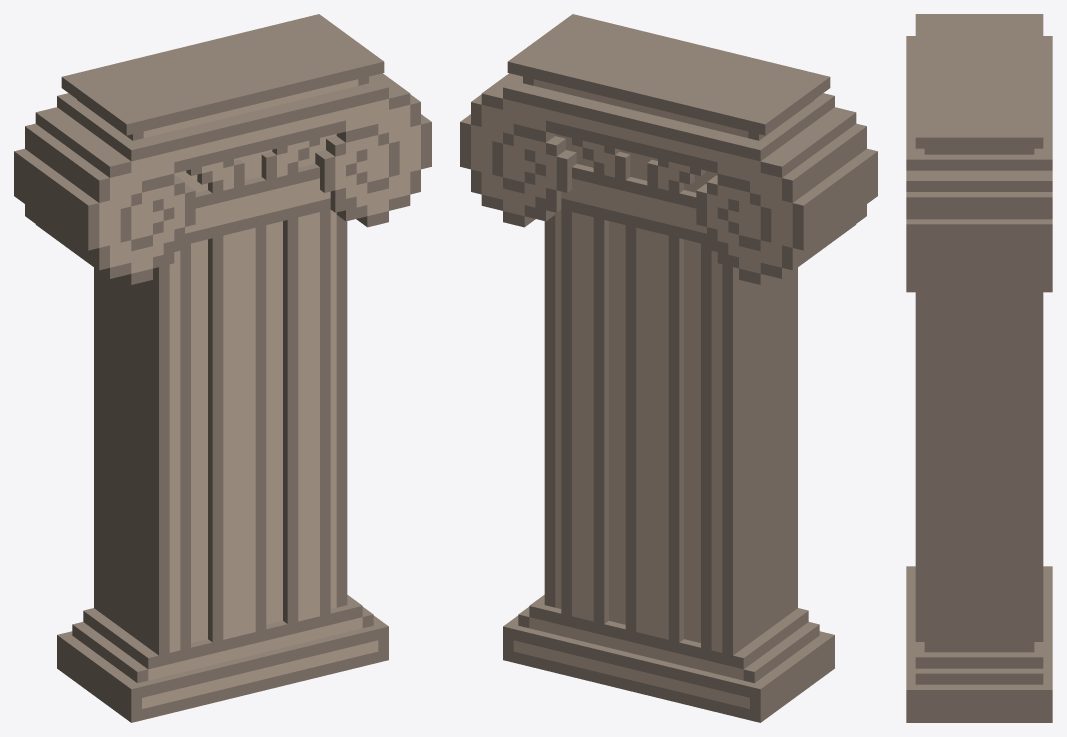
The model's file is IonicPillar.fbx.
The picture shows the model from 3 angles, left to right: view 1: azimuth 30°, elevation 25°; view 2: azimuth 150°, elevation 25°; view 3: azimuth 270°, elevation 25°; orthographic projection.
Parts seen in each view (by area): view 1: generated; view 2: generated; view 3: generated.
Boxes of the visible parts, x1,y1,x2,y2 form: generated: [14, 14, 431, 722]; generated: [460, 14, 877, 722]; generated: [906, 14, 1052, 722].
Size of the model in its own units: 16 by 26.5 by 6.
